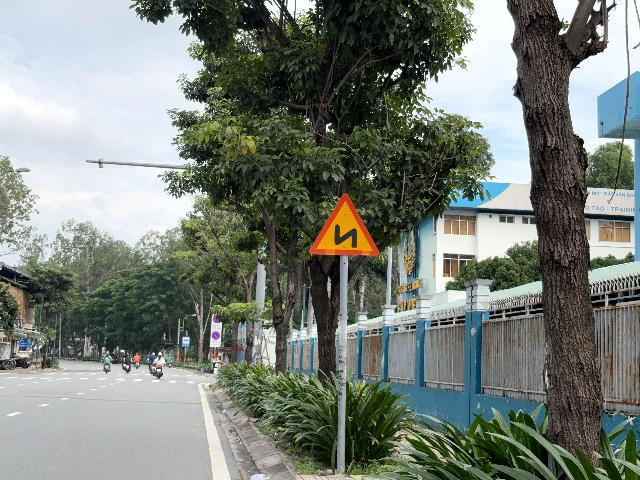nhieu-cho-ngoat-nguy-hiem-lien-tiep: (308, 192, 380, 256)
